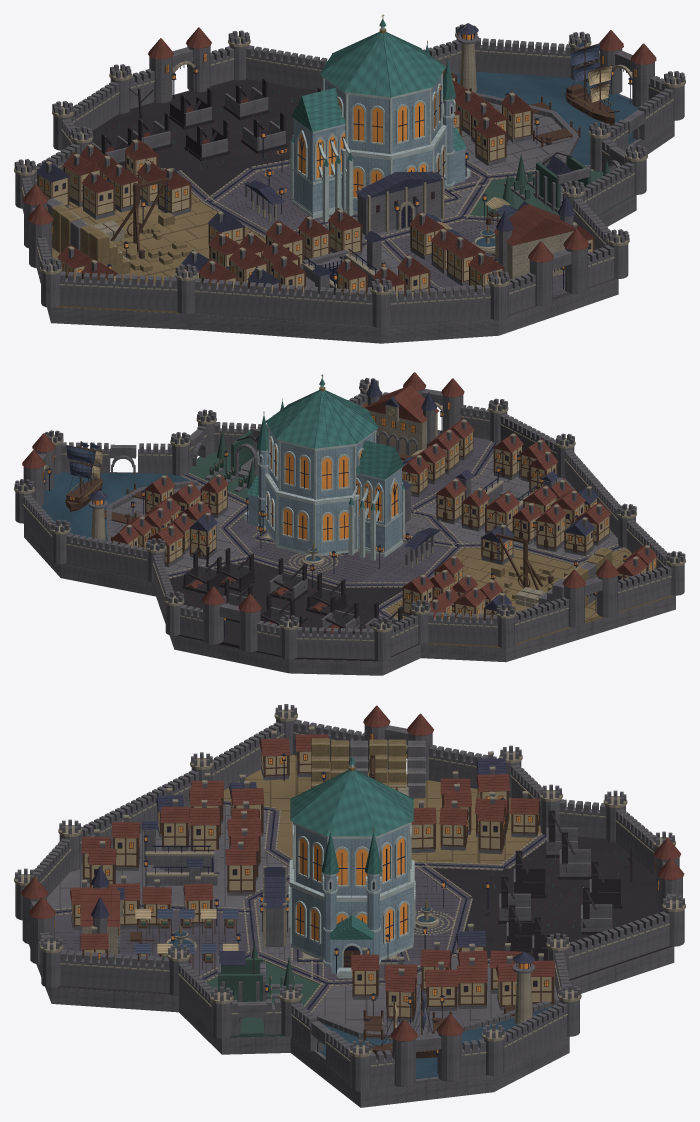
The model's file is CityMap_v2.fbx.
3 renders of one model, top to bottom at view 1: azimuth 30°, elevation 25°; view 2: azimuth 150°, elevation 25°; view 3: azimuth 270°, elevation 25°, orthographic. The views are drawn at different scales.
Visible parts, largest first — view 1: curtain_walls_crenellations, city_rock_foundation, cathedral_octagonal_palatine_chapel, district_04_ground, cathedral_gothic_choir_buttresses, ruins_burnt_houses_broken_beams, cathedral_octagonal_copper_roof, district_03_ground, river_broad_water, treasury_fortified_gallery, market_town_hall, quarry_terraced_rock_cut (+54 smaller); view 2: curtain_walls_crenellations, cathedral_octagonal_palatine_chapel, city_rock_foundation, ruins_burnt_houses_broken_beams, cathedral_gothic_choir_buttresses, district_04_ground, cathedral_octagonal_copper_roof, market_town_hall, district_03_ground, river_broad_water, district_08_ground, forecourt_fountain_candelabra_paving (+53 smaller); view 3: curtain_walls_crenellations, cathedral_octagonal_palatine_chapel, city_rock_foundation, district_04_ground, ruins_burnt_houses_broken_beams, cathedral_octagonal_copper_roof, district_03_ground, quarry_terraced_rock_cut, district_05_ground, district_01_ground, district_02_ground, city_gate_west (+56 smaller).
Boxes of the visible parts, <box> form: curtain_walls_crenellations: <box>14,24,685,328</box>; city_rock_foundation: <box>37,121,674,343</box>; cathedral_octagonal_palatine_chapel: <box>322,73,446,214</box>; district_04_ground: <box>92,79,317,196</box>; cathedral_gothic_choir_buttresses: <box>290,88,353,222</box>; ruins_burnt_houses_broken_beams: <box>92,78,322,165</box>; cathedral_octagonal_copper_roof: <box>319,14,446,97</box>; district_03_ground: <box>52,192,265,313</box>; river_broad_water: <box>455,71,638,166</box>; treasury_fortified_gallery: <box>355,170,446,235</box>; market_town_hall: <box>493,196,577,279</box>; quarry_terraced_rock_cut: <box>47,198,191,274</box>; curtain_walls_crenellations: <box>14,378,685,661</box>; cathedral_octagonal_palatine_chapel: <box>265,426,376,555</box>; city_rock_foundation: <box>24,524,675,675</box>; ruins_burnt_houses_broken_beams: <box>182,547,402,634</box>; cathedral_gothic_choir_buttresses: <box>348,440,404,560</box>; district_04_ground: <box>169,560,418,661</box>; cathedral_octagonal_copper_roof: <box>265,374,378,448</box>; market_town_hall: <box>365,379,439,455</box>; district_03_ground: <box>385,547,673,647</box>; river_broad_water: <box>41,472,189,541</box>; district_08_ground: <box>230,516,450,583</box>; forecourt_fountain_candelabra_paving: <box>247,510,411,584</box>; curtain_walls_crenellations: <box>14,704,685,1091</box>; cathedral_octagonal_palatine_chapel: <box>288,822,415,960</box>; city_rock_foundation: <box>29,944,674,1107</box>; district_04_ground: <box>433,836,671,980</box>; ruins_burnt_houses_broken_beams: <box>498,810,622,960</box>; cathedral_octagonal_copper_roof: <box>290,752,413,836</box>; district_03_ground: <box>223,755,540,865</box>; quarry_terraced_rock_cut: <box>311,738,425,798</box>; district_05_ground: <box>311,956,567,1089</box>; district_01_ground: <box>54,908,248,994</box>; district_02_ground: <box>47,805,289,910</box>; city_gate_west: <box>391,1014,463,1087</box>.
Size of what is drawn, in the model's own units: 61.78 by 17.83 by 50.75.
22 materials, 22 textured.
